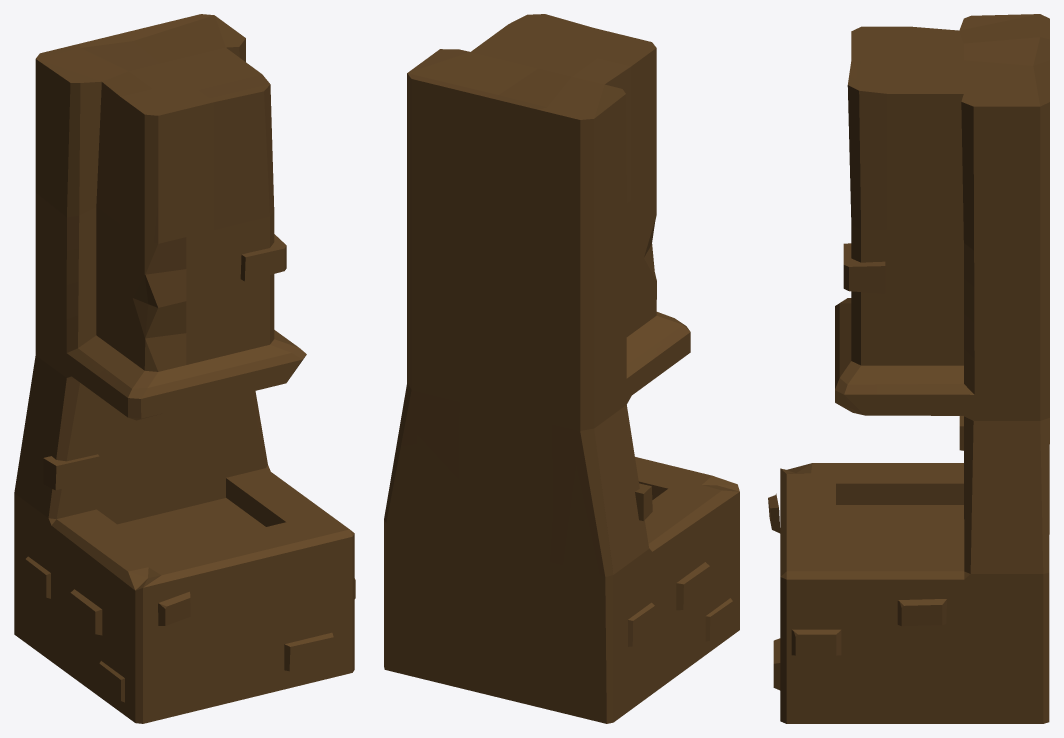
The model's file is forge_01.fbx.
3 views of the same model, side by side, from view 1: azimuth 30°, elevation 25°; view 2: azimuth 150°, elevation 25°; view 3: azimuth 270°, elevation 25° (orthographic). The views are drawn at different scales.
Parts seen in each view (by area): view 1: forge; view 2: forge; view 3: forge.
Boxes of the visible parts, x1,y1,x2,y2 form: forge: (14,14,355,723); forge: (384,14,739,723); forge: (768,14,1049,723).
Bounding box in the file's own units: 164 × 383 × 161.
